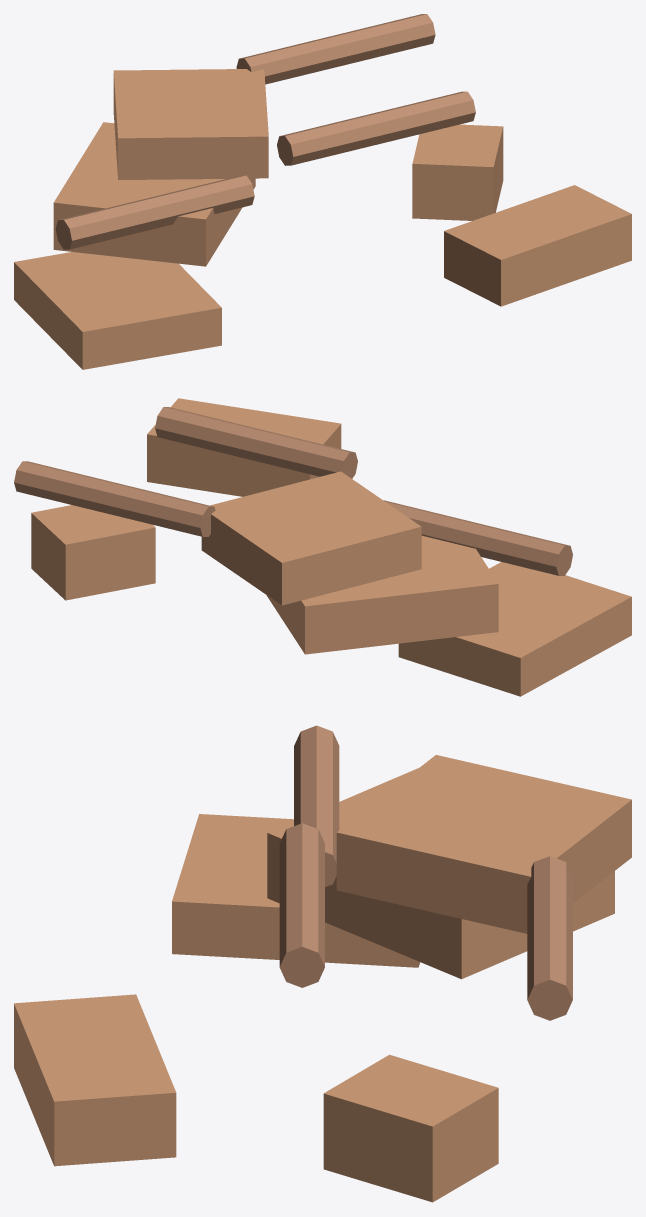
Rendered from scrap_pile_06.glb.
3 views of the same model, one above another, from view 1: azimuth 30°, elevation 25°; view 2: azimuth 150°, elevation 25°; view 3: azimuth 270°, elevation 25° (orthographic). The views are drawn at different scales.
Parts seen in each view (by area): view 1: scrap7, scrap5, scrap2, scrap4, scrap1, pipe3, pipe6, pipe0; view 2: scrap5, scrap7, scrap4, scrap1, scrap2, pipe0, pipe3, pipe6; view 3: scrap5, scrap2, scrap1, scrap7, scrap4, pipe3, pipe0, pipe6.
Boxes of the visible parts, x1,y1,x2,y2 form: scrap7: (14,252,221,369); scrap5: (113,69,268,180); scrap2: (444,185,631,306); scrap4: (53,122,255,266); scrap1: (412,124,503,220); pipe3: (277,91,475,165); pipe6: (55,175,254,249); pipe0: (236,14,435,84); scrap5: (201,471,421,605); scrap7: (398,562,631,696); scrap4: (266,535,498,654); scrap1: (31,505,155,600); scrap2: (147,398,341,496); pipe0: (14,461,215,536); pipe3: (155,407,357,478); pipe6: (383,500,572,575); scrap5: (336,755,631,933); scrap2: (14,994,176,1166); scrap1: (323,1054,498,1202); scrap7: (172,814,420,967); scrap4: (267,768,614,979); pipe3: (279,823,324,987); pipe0: (527,856,572,1020); pipe6: (294,725,339,886).
Bounding box in the file's own units: 1.24 × 0.3492 × 0.9507.
